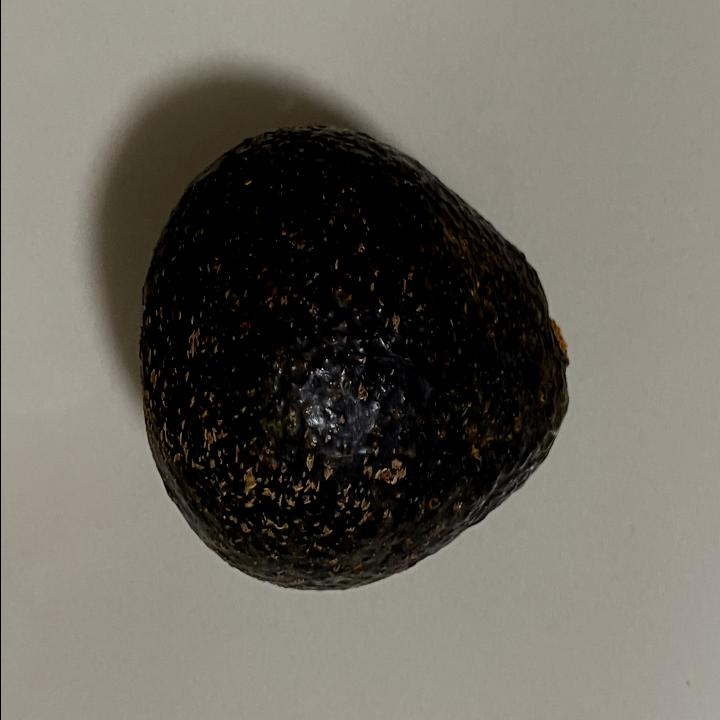Level2: (132, 114, 581, 606)
